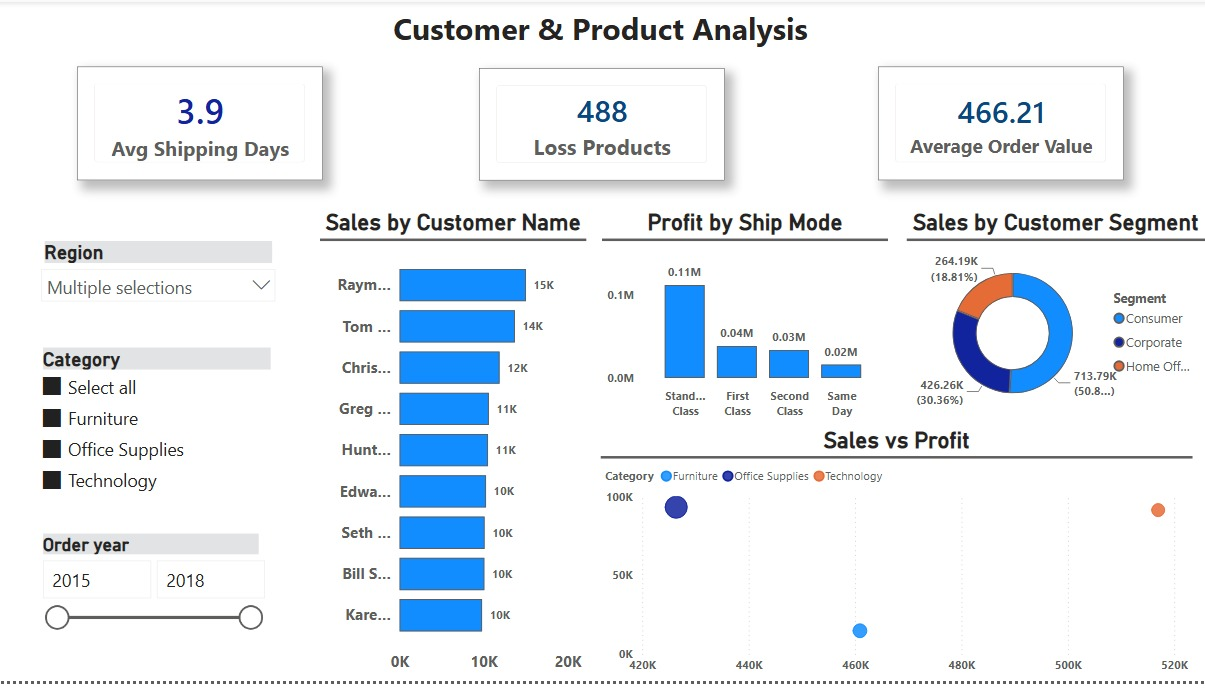

The dashboard page shown, as its layout file describes it:
{"tool":"powerbi","page":{"name":"Page 2","canvas":[1280,720],"ordinal":1},"visuals":[{"type":"textbox","box":[9.5,0,1256.6,55.7],"z":0},{"type":"donutChart","title":"Sales by Customer Segment","fields":{"Category":["superstore_cleaned.Segment"],"Y":["Sum(superstore_cleaned.Sales)"]},"box":[962.4,219.1,316.5,230.5],"z":1000},{"type":"cardVisual","fields":{"Data":["Avg(superstore_cleaned.Shipping_Days)"]},"box":[83.2,68,260.8,120.9],"z":2000},{"type":"cardVisual","fields":{"Data":["superstore_cleaned.AOV"]},"box":[509,70,260.9,119.3],"z":3000},{"type":"cardVisual","fields":{"Data":["superstore_cleaned.Average Order Value"]},"box":[932.1,68.4,260.9,120.9],"z":4000},{"type":"clusteredColumnChart","title":"Profit by Ship Mode","fields":{"Category":["superstore_cleaned.Ship Mode"],"Y":["Sum(superstore_cleaned.Profit)"]},"box":[639.5,219.1,303.5,230.5],"z":5000},{"type":"clusteredBarChart","title":"Sales by Customer Name","fields":{"Category":["superstore_cleaned.Customer Name"],"Y":["Sum(superstore_cleaned.Sales)"]},"box":[340.8,219.1,282.4,501.5],"z":6000},{"type":"scatterChart","title":"Sales vs Profit","fields":{"X":["Sum(superstore_cleaned.Sales)"],"Y":["Sum(superstore_cleaned.Profit)"],"Series":["superstore_cleaned.Category"],"Size":["Sum(superstore_cleaned.Quantity)"]},"box":[637.8,449.6,628.1,271],"z":7000},{"type":"slicer","fields":{"Values":["superstore_cleaned.Region"]},"box":[35.7,248.3,267.8,86],"z":8000},{"type":"slicer","fields":{"Values":["superstore_cleaned.Category"]},"box":[34.1,360.3,267.8,173.7],"z":9000},{"type":"slicer","fields":{"Values":["superstore_cleaned.Order_year"]},"box":[34.1,558.3,254.8,162.3],"z":10000}]}

Visuals, with their boxes in screenshot pixels (x1, y1, x2, y2), scaled from the page's 1280x720 canvas onto the 1205x690 screenshot:
textbox: select_region(9, 0, 1192, 53)
"Sales by Customer Segment" donutChart: select_region(906, 210, 1204, 431)
cardVisual - Avg(superstore_cleaned.Shipping_Days): select_region(78, 65, 324, 181)
cardVisual - superstore_cleaned.AOV: select_region(479, 67, 725, 181)
cardVisual - superstore_cleaned.Average Order Value: select_region(877, 66, 1123, 181)
"Profit by Ship Mode" clusteredColumnChart: select_region(602, 210, 888, 431)
"Sales by Customer Name" clusteredBarChart: select_region(321, 210, 587, 689)
"Sales vs Profit" scatterChart: select_region(600, 431, 1192, 689)
slicer - superstore_cleaned.Region: select_region(34, 238, 286, 320)
slicer - superstore_cleaned.Category: select_region(32, 345, 284, 512)
slicer - superstore_cleaned.Order_year: select_region(32, 535, 272, 689)
